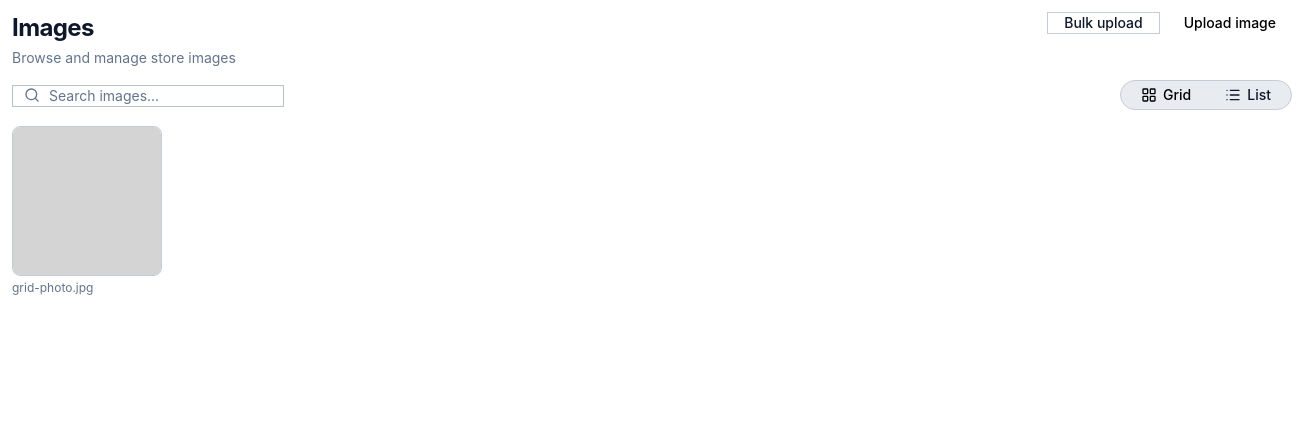
Test case: ImageGalleryPage › list view bulk selection › shows the bulk action bar with the selected count once a row is checked, and hides it on Clear
Step 1. Click the button "List" → (1248, 95), box [1209,85,1287,105]
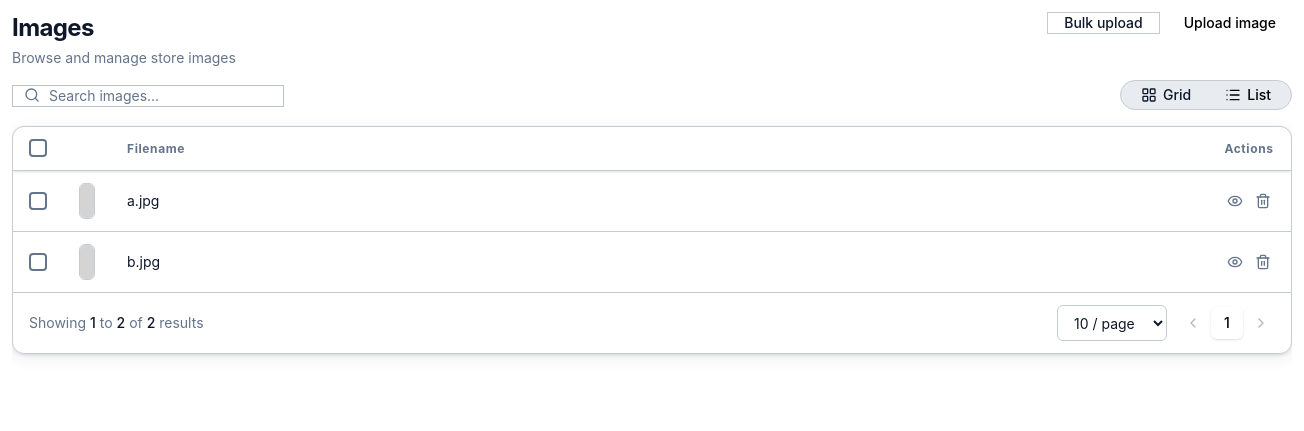
Check: the text "a.jpg" is shown, box [127,192,160,209]
Step 2. Click the checkbox named "Select row" → (38, 201), box [29,192,47,210]
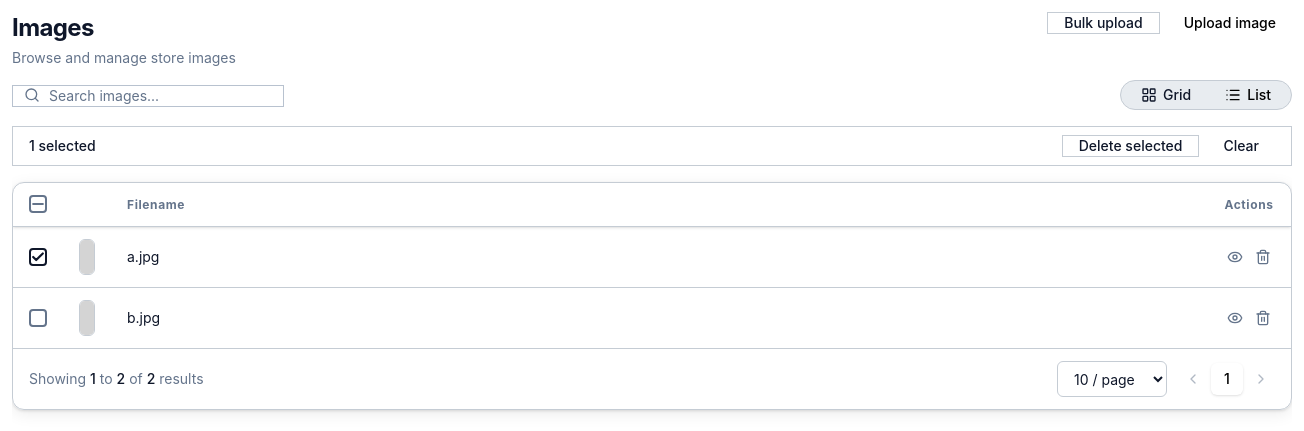
Check: the text "1 selected" is shown, box [29,136,96,156]
Check: the button with test id "bulk-delete-images" is shown, box [1062,135,1200,157]
Step 3. Click the button "Clear" → (1241, 146), box [1208,136,1275,156]
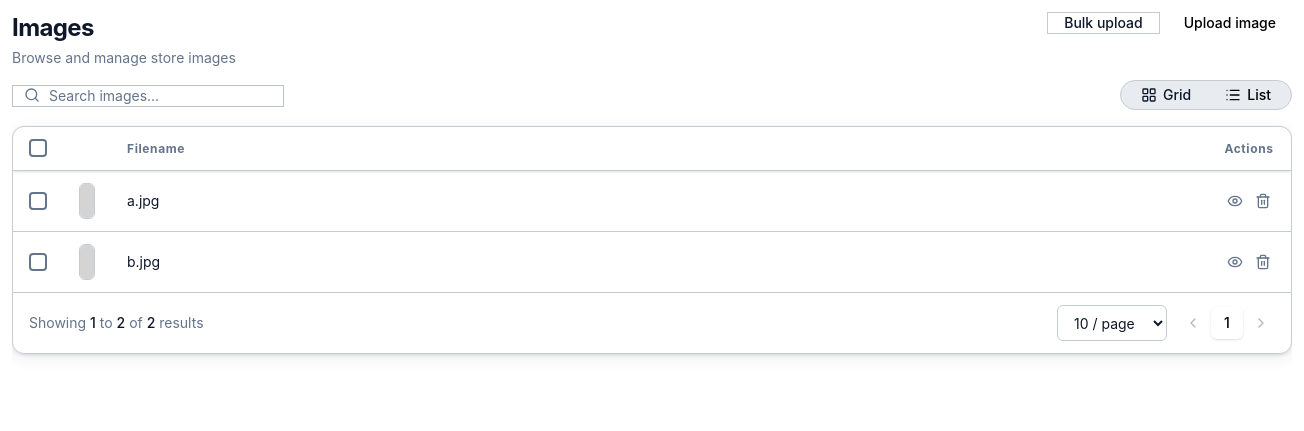
Check: the button with test id "bulk-delete-images" is gone
